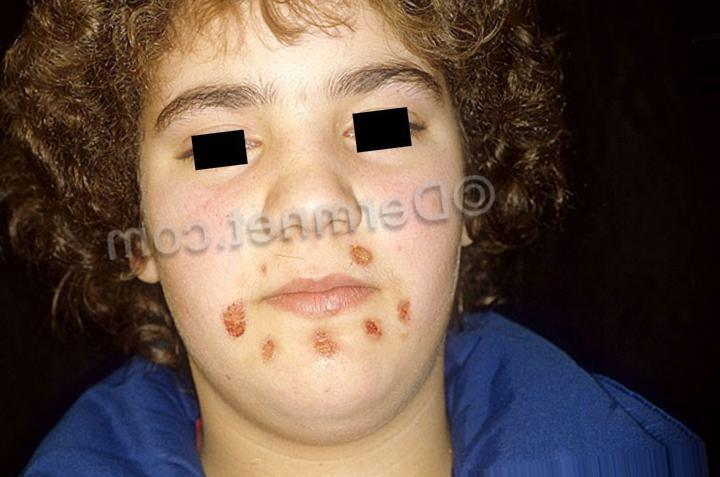Acne: (218, 302, 256, 343), (388, 296, 429, 331), (306, 333, 354, 361), (348, 243, 390, 273), (360, 316, 399, 346), (255, 336, 288, 360)
